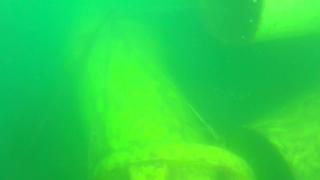pipe: (66, 17, 257, 180), (235, 87, 320, 180), (214, 1, 320, 46)
